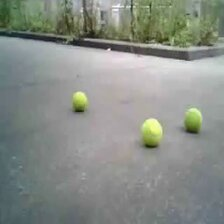tennis: (140, 118, 162, 148), (184, 108, 201, 133), (71, 91, 88, 110)
